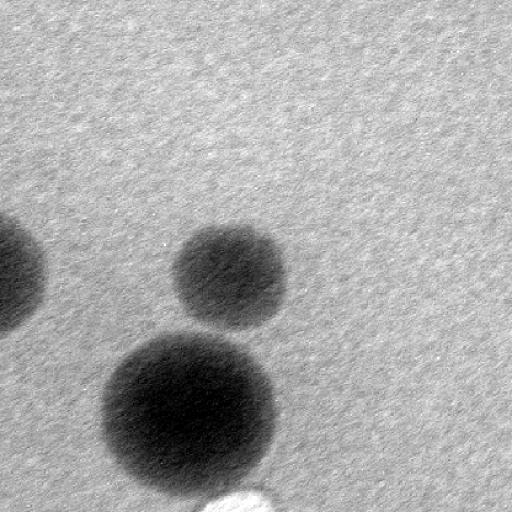Nanoparticles: (100, 328, 287, 496), (172, 222, 292, 334), (0, 209, 49, 345)
